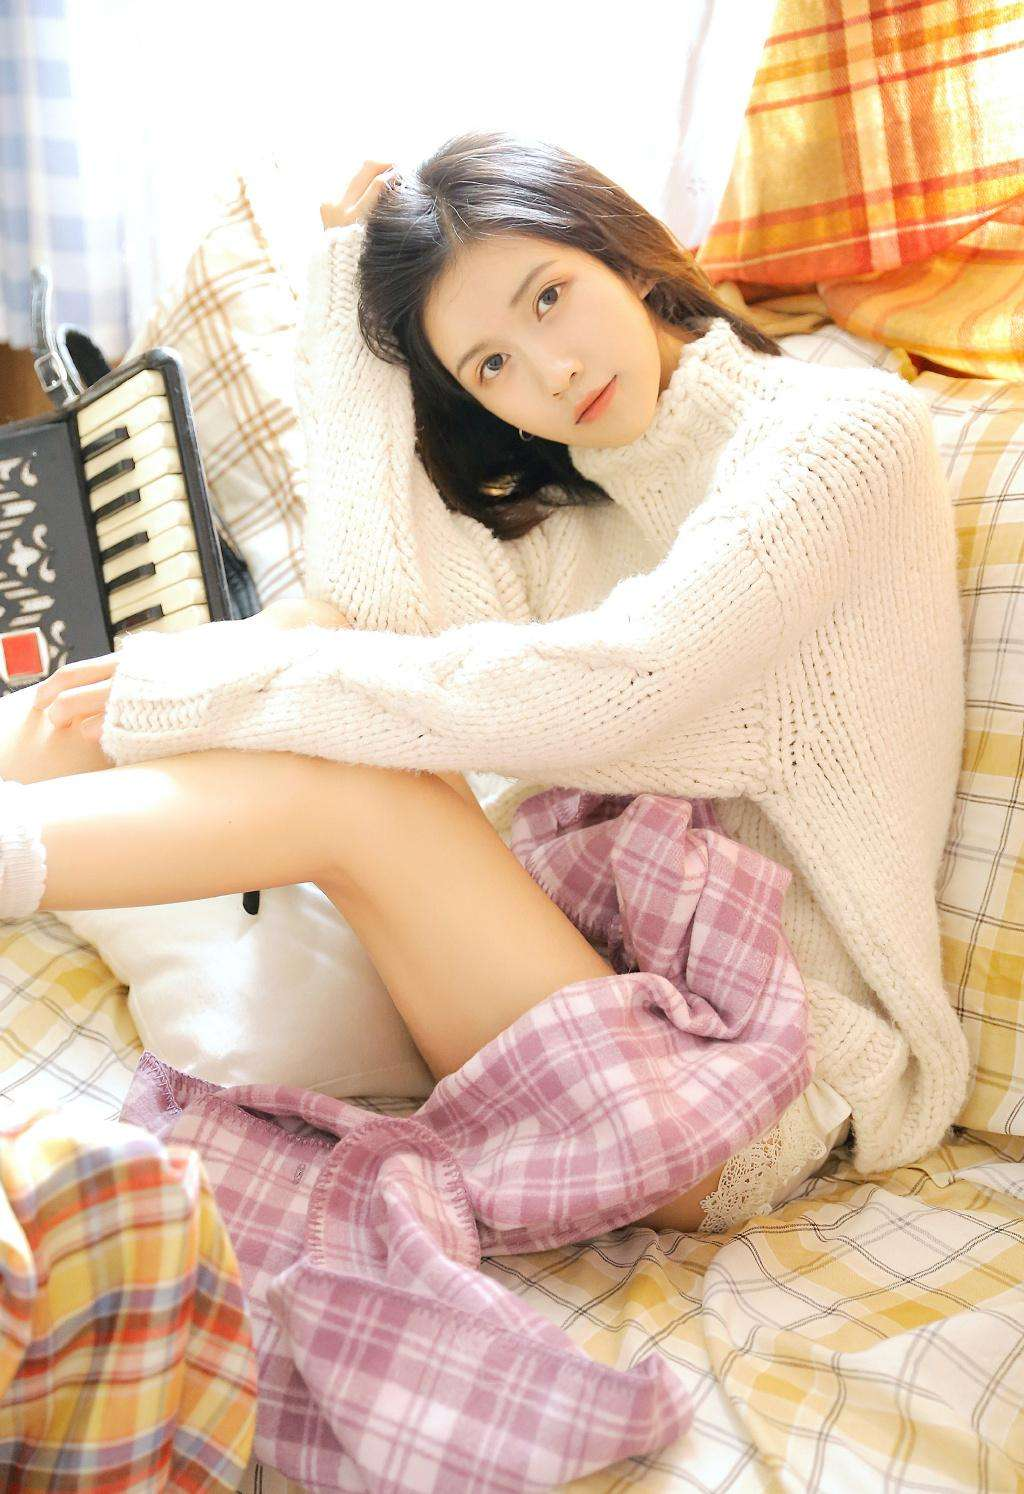person: (211, 184, 973, 1245)
